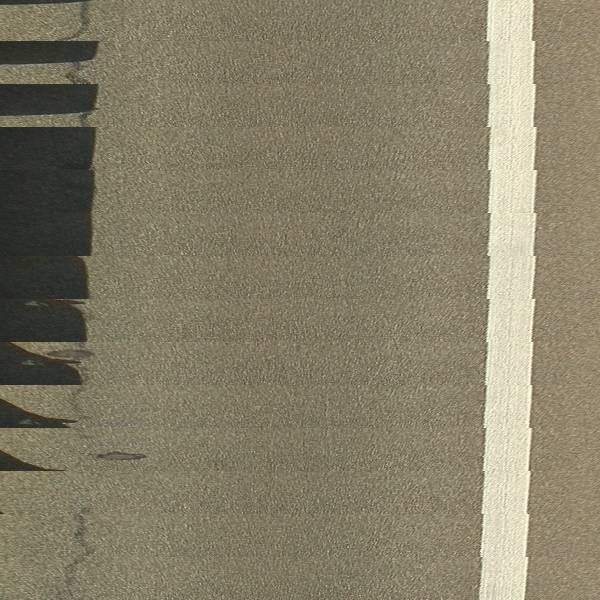road_damage: (59, 504, 95, 592), (92, 445, 150, 466), (47, 347, 98, 363)
